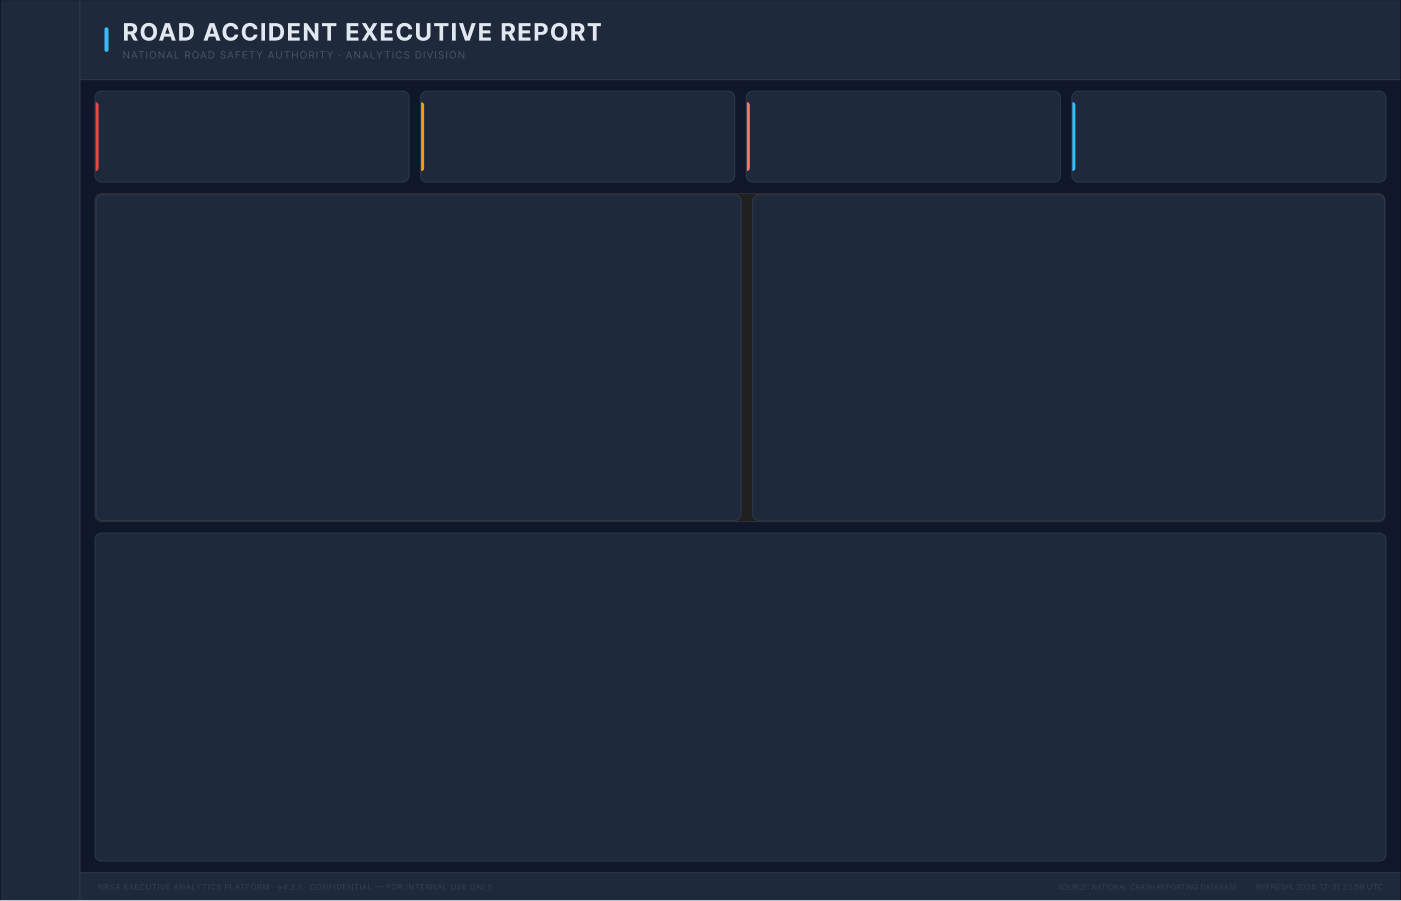

Layout of this report page (visuals, bound fields, positions):
{"tool":"powerbi","page":{"name":"Report 1","canvas":[1500,1500],"ordinal":0},"visuals":[{"type":"textbox","box":[9.6,0,279.9,41.2],"z":0},{"type":"textbox","box":[193.3,20,1113.3,120],"z":1000},{"type":"shape","box":[35,175,631.7,296.7],"z":2000},{"type":"cardVisual","fields":{"Data":["Sum(Query1.Injury Total)"]},"box":[55.1,254.9,198.3,126.7],"z":3000},{"type":"cardVisual","fields":{"Data":["Sum(Query1.Num units)"]},"box":[253.4,254.9,193.3,126.7],"z":4000},{"type":"lineStackedColumnComboChart","title":"Biểu đồ phân tích số vụ tai nạn và số phương tiện trong từng năm","fields":{"Category":["Query1.year"],"Y":["Sum(Query1.Injury Total)"],"Y2":["Sum(Query1.Num units)"]},"box":[721.7,175,728.3,296.7],"z":5000},{"type":"pieChart","title":"Biểu đồ thống kê số vụ tai nạn theo vụ va chạm tổng thể","fields":{"Y":["Sum(Query1.Number of Accident)"],"Category":["Query1.Crash Type"]},"box":[36.7,565,631.7,368.3],"z":6000},{"type":"clusteredBarChart","title":"Biểu đồ phân tích số vụ tai nạn và phương tiện theo các mức độ thiệt hại","fields":{"Category":["Query1.Damage Extension"],"Y":["Sum(Query1.Number of Accident)","Sum(Query1.Num units)"]},"box":[721.7,565,728.3,368.3],"z":7000},{"type":"pivotTable","title":"Bảng phân tích các vụ va chạm trong từng năm","fields":{"Rows":["Query1.year"],"Columns":["Query1.First Crash Type"],"Values":["Sum(Query1.Injury Total)","Sum(Query1.Number of Accident)"]},"box":[43.3,996.7,1413.3,468.3],"z":8000},{"type":"cardVisual","fields":{"Data":["Sum(Query1.Number of Accident)"]},"box":[446.8,254.9,193.3,126.7],"z":9000}]}

Visuals, with their boxes on the page's 1500x1500 design canvas (x1, y1, x2, y2). These are canvas units, not pixel positions in the 1401x901 screenshot, which may show the page scaled, cropped or inside an application window:
textbox: pyautogui.locateOnScreen(10, 0, 290, 41)
textbox: pyautogui.locateOnScreen(193, 20, 1307, 140)
shape: pyautogui.locateOnScreen(35, 175, 667, 472)
cardVisual - Sum(Query1.Injury Total): pyautogui.locateOnScreen(55, 255, 253, 382)
cardVisual - Sum(Query1.Num units): pyautogui.locateOnScreen(253, 255, 447, 382)
"Biểu đồ phân tích số vụ tai nạn và số phương tiện trong từng năm" lineStackedColumnComboChart: pyautogui.locateOnScreen(722, 175, 1450, 472)
"Biểu đồ thống kê số vụ tai nạn theo vụ va chạm tổng thể" pieChart: pyautogui.locateOnScreen(37, 565, 668, 933)
"Biểu đồ phân tích số vụ tai nạn và phương tiện theo các mức độ thiệt hại" clusteredBarChart: pyautogui.locateOnScreen(722, 565, 1450, 933)
"Bảng phân tích các vụ va chạm trong từng năm" pivotTable: pyautogui.locateOnScreen(43, 997, 1457, 1465)
cardVisual - Sum(Query1.Number of Accident): pyautogui.locateOnScreen(447, 255, 640, 382)
